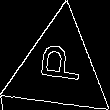P_W: (34, 47, 84, 90)
